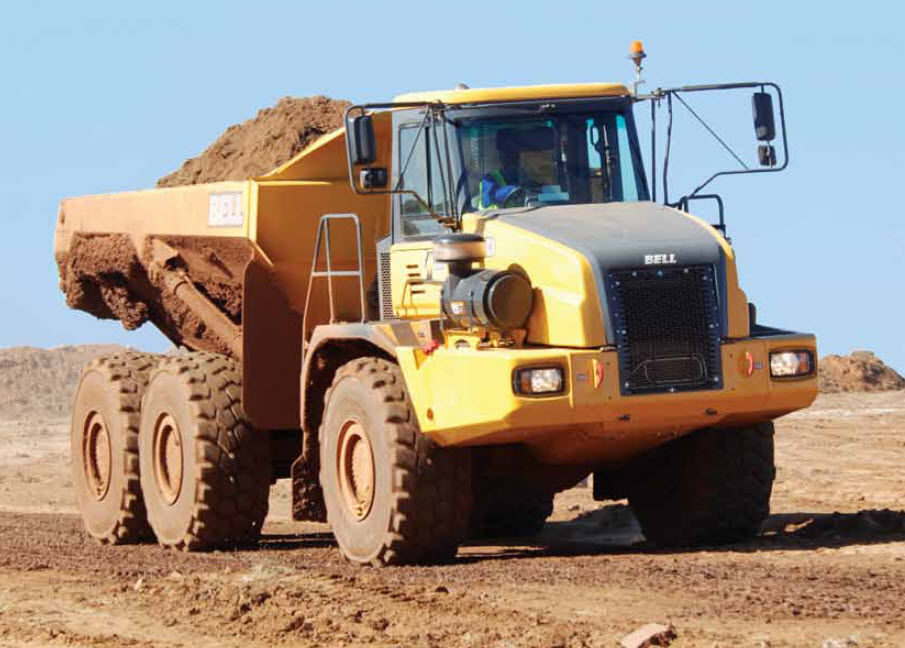truck: (52, 54, 807, 549)
